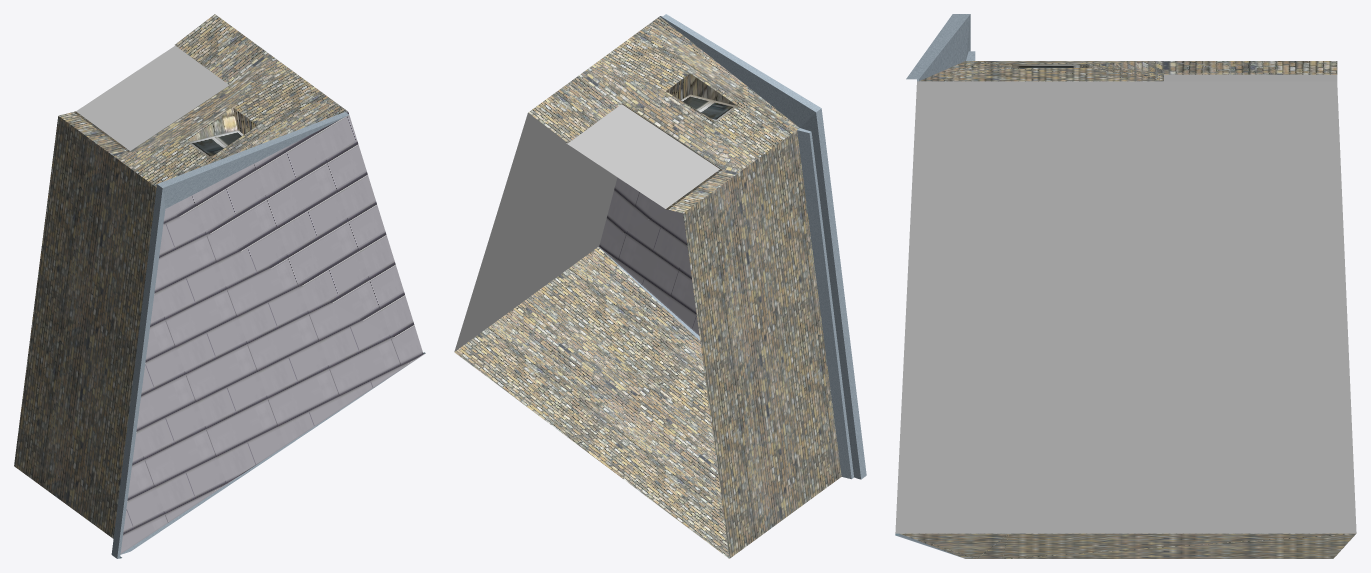
File: Myyrivahe_62a2-origo.obj
The picture shows the model from 3 angles, left to right: view 1: azimuth 30°, elevation 25°; view 2: azimuth 150°, elevation 25°; view 3: azimuth 270°, elevation 25°; orthographic projection. The views are drawn at different scales.
Parts seen in each view (by area): view 1: Myyrivahe_62a_2; view 2: Myyrivahe_62a_2, xxx; view 3: xxx, Myyrivahe_62a_2.
Boxes of the visible parts, box(x1,y1,x2,y2) form: Myyrivahe_62a_2: box(14, 14, 425, 558); Myyrivahe_62a_2: box(454, 14, 866, 558); xxx: box(454, 113, 617, 351); xxx: box(895, 81, 1356, 533); Myyrivahe_62a_2: box(895, 14, 1355, 558).
Size of the model in its own units: 7.19 by 9.5 by 6.27.
